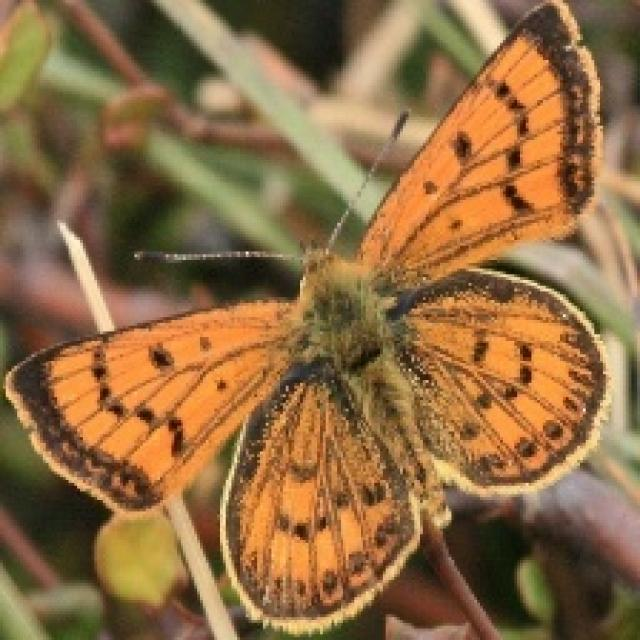butterfly: (0, 0, 611, 634)
